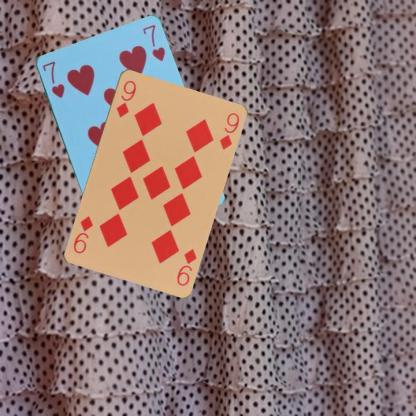7h: (39, 58, 66, 100)
9d: (113, 77, 138, 118), (174, 246, 198, 287)
